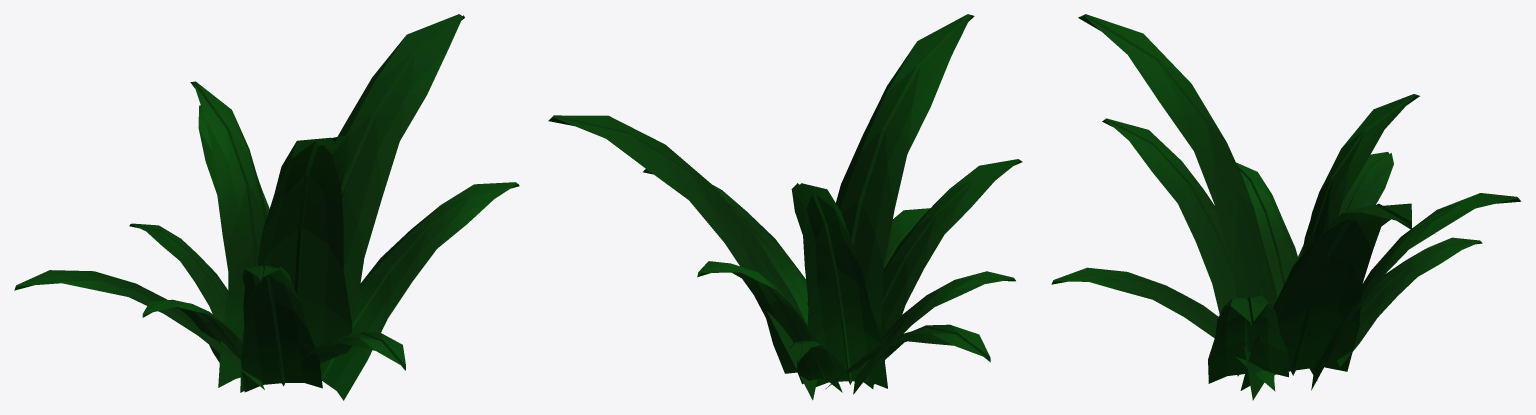
Rendered from tropical_grass_1.fbx.
The picture shows the model from 3 angles, left to right: view 1: azimuth 30°, elevation 25°; view 2: azimuth 150°, elevation 25°; view 3: azimuth 270°, elevation 25°; orthographic projection. The views are drawn at different scales.
Visible parts, largest first — view 1: tropical_grass_1; view 2: tropical_grass_1; view 3: tropical_grass_1.
Part boxes in pixels (box(x1,y1,x2,y2)): tropical_grass_1: box(14, 14, 519, 400); tropical_grass_1: box(548, 14, 1022, 400); tropical_grass_1: box(1051, 14, 1521, 400).
Size of the model in its own units: 282 by 192 by 242.
